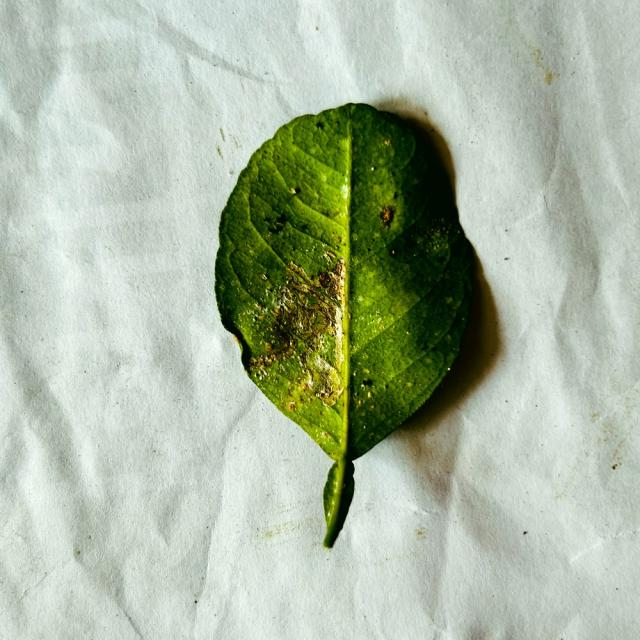Bacterial_Blight: (282, 287, 336, 345), (353, 296, 400, 341), (253, 324, 296, 367), (307, 364, 341, 402), (418, 226, 449, 257), (285, 262, 312, 287), (331, 259, 347, 288), (379, 206, 394, 226), (253, 360, 265, 373), (282, 303, 294, 314), (273, 305, 284, 317), (325, 251, 337, 261), (286, 401, 297, 411), (261, 274, 268, 281), (336, 236, 342, 243)
Lemon: (213, 103, 479, 550)
